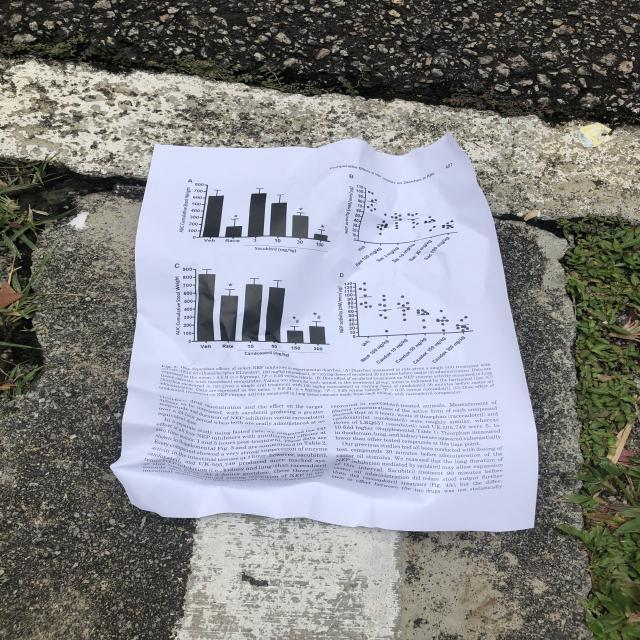document: (113, 134, 537, 531)
